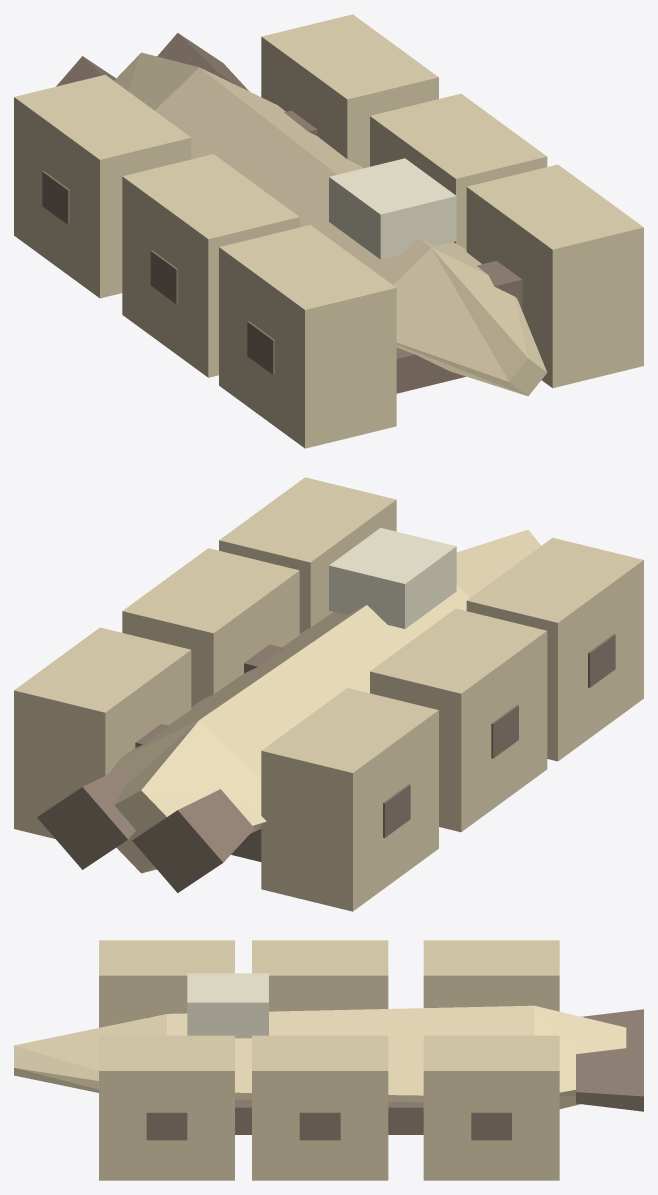
The picture shows the model from 3 angles, top to bottom: view 1: azimuth 30°, elevation 25°; view 2: azimuth 150°, elevation 25°; view 3: azimuth 270°, elevation 25°; orthographic projection. The views are drawn at different scales.
Bounding box in the file's own units: 4.14 × 1.86 × 8.33.
